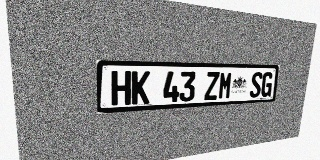3: (179, 71, 196, 102)
4: (163, 71, 180, 103)
G: (260, 72, 274, 97)
H: (111, 71, 131, 106)
K: (131, 71, 150, 105)
M: (218, 72, 233, 100)
S: (249, 72, 263, 98)
Z: (204, 72, 220, 100)
